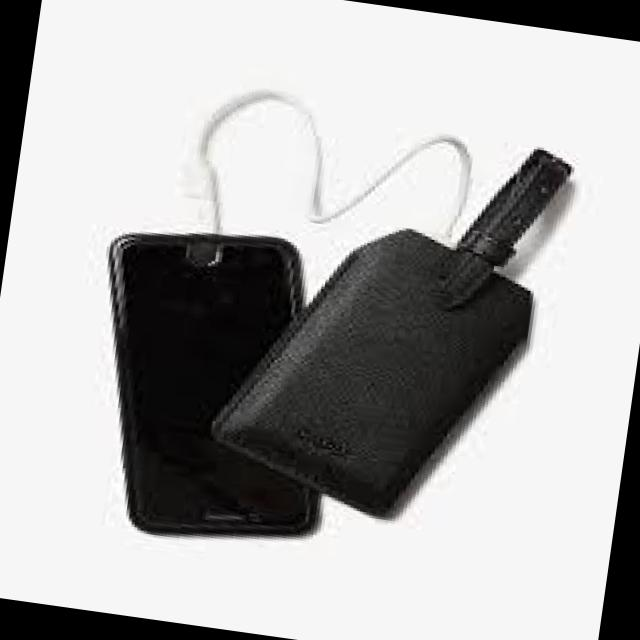portable-charger: (70, 215, 376, 561)
